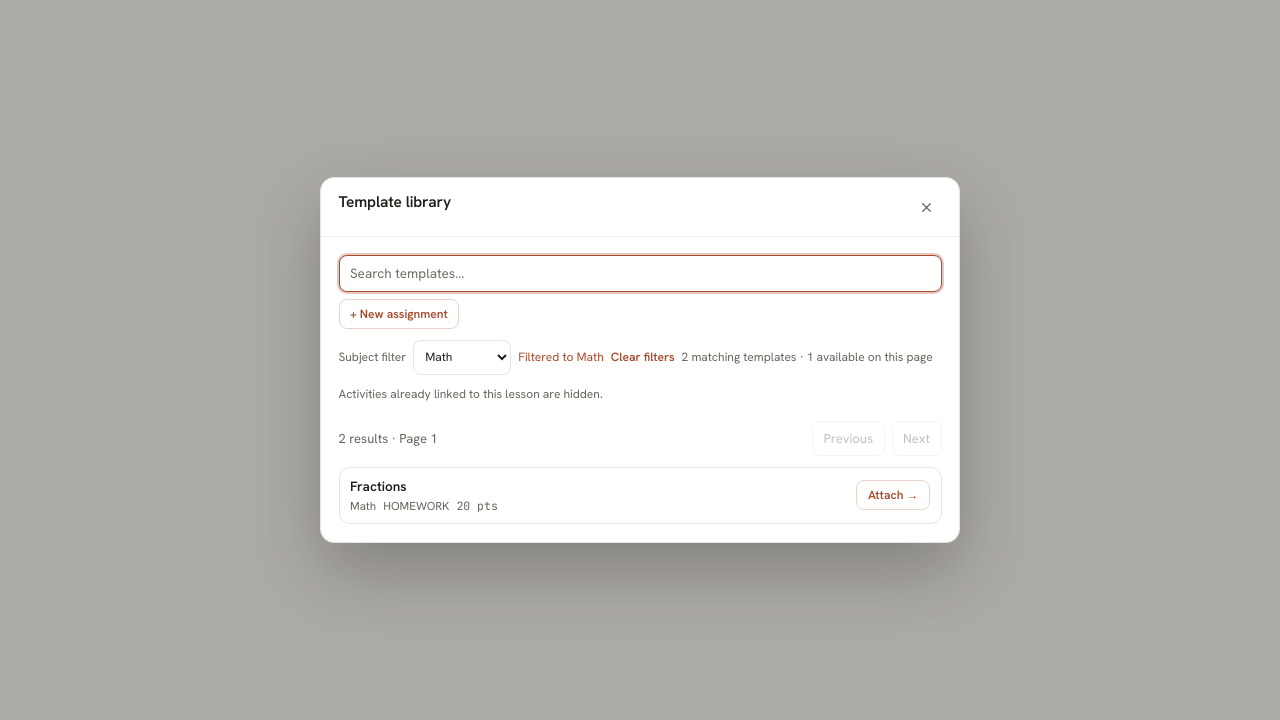
Test case: shows the inherited filter and lets the teacher reveal other subjects
expect the dropdown named "Template library subject" shows "Math": met, box 413,340 -> 511,375
expect the text "Filtered to Math" is shown: met, box 518,348 -> 604,366
Click the button "Clear filters".
click(643, 357)  # box 611,340 -> 674,375
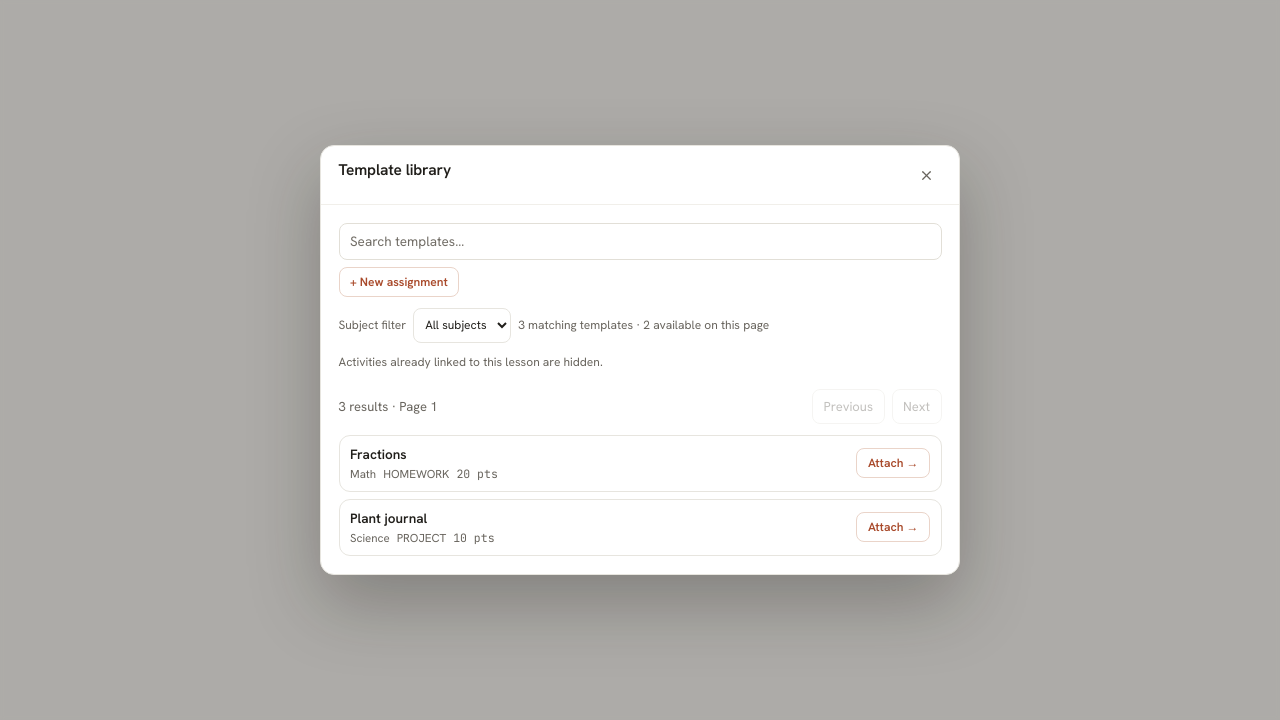
expect the button with aria-label "Attach Plant journal" is shown: met, box 856,512 -> 930,542
expect the dropdown named "Template library subject" shows "All subjects": met, box 413,308 -> 511,343
